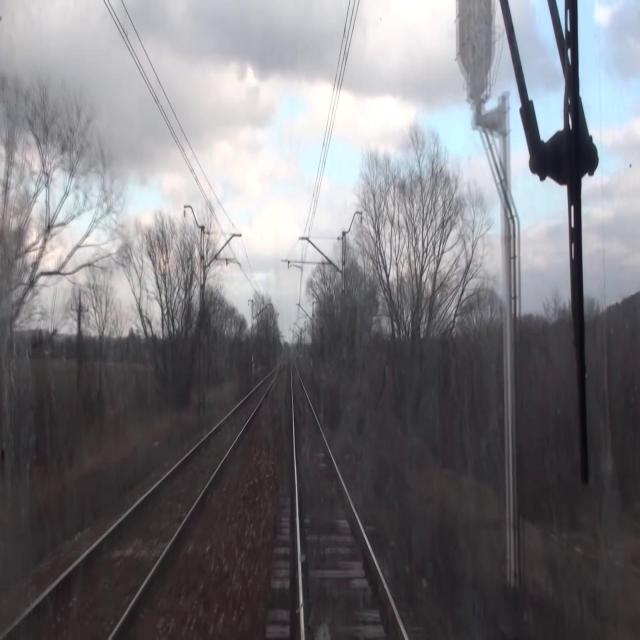rail-track: (5, 372, 276, 639), (293, 366, 403, 639)
